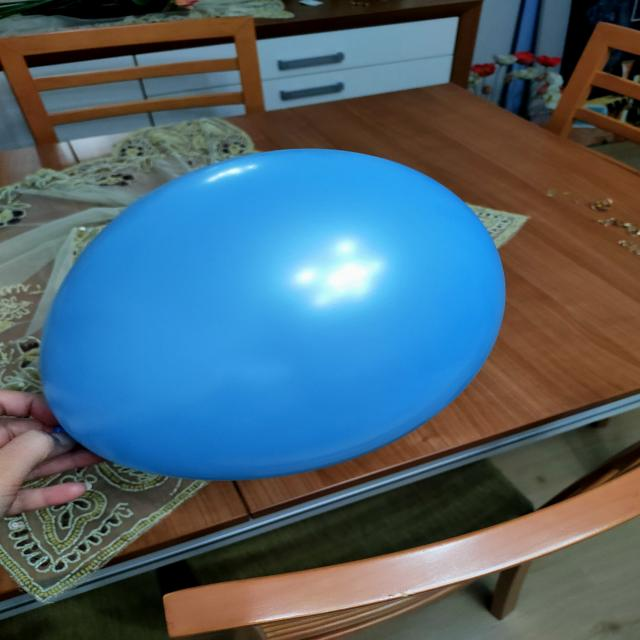blue: (46, 147, 507, 478)
